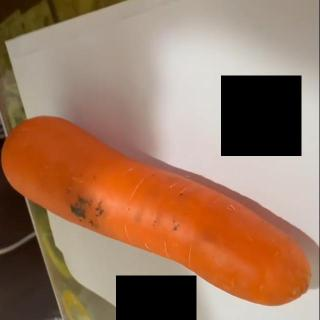carrot: (0, 115, 312, 307)
